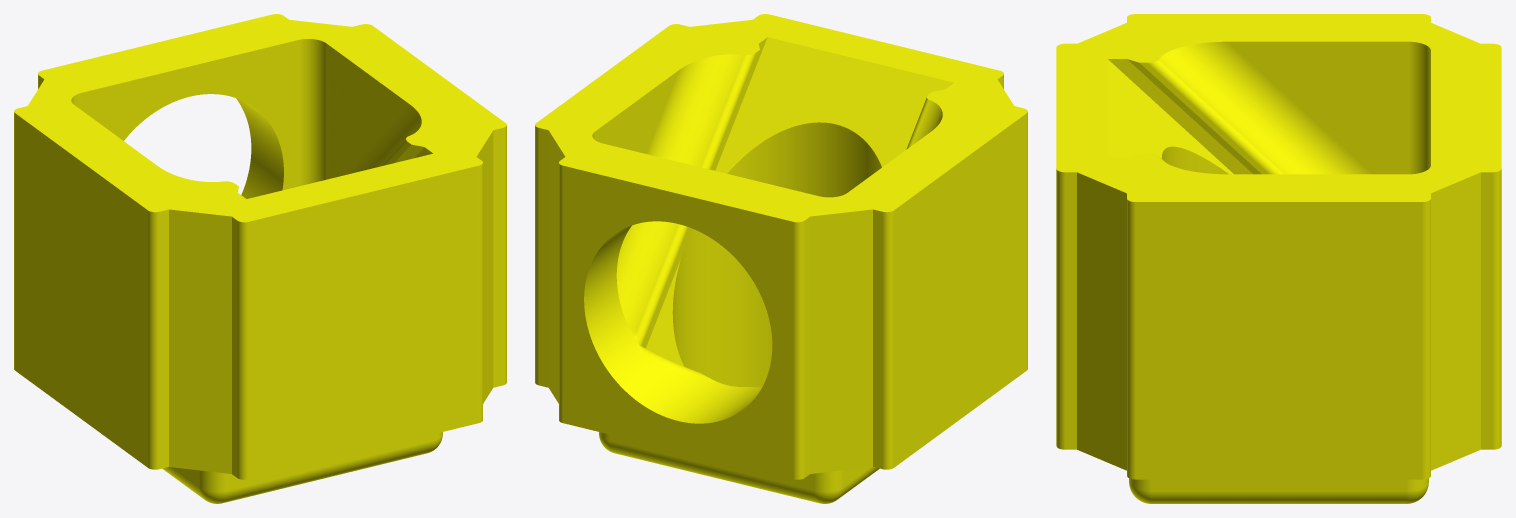
Rendered from V5_Dichroic Mirror Mount.obj.
3 renders of one model, left to right at view 1: azimuth 30°, elevation 25°; view 2: azimuth 150°, elevation 25°; view 3: azimuth 270°, elevation 25°, orthographic. The views are drawn at different scales.
Parts seen in each view (by area): view 1: Solid1:29; view 2: Solid1:29; view 3: Solid1:29.
Boxes of the visible parts, left/top/right/bottom form: Solid1:29: left=14, top=14, right=506, bottom=503; Solid1:29: left=535, top=14, right=1027, bottom=503; Solid1:29: left=1056, top=14, right=1501, bottom=503.
Size of the model in its own units: 49.65 by 41.85 by 49.65.
